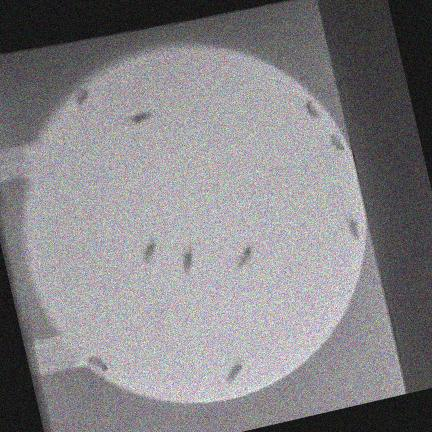fly: (236, 245, 254, 266), (142, 238, 157, 262), (227, 361, 243, 381), (88, 355, 108, 371), (128, 111, 152, 123), (182, 248, 193, 273), (348, 217, 360, 238), (306, 100, 320, 117), (331, 133, 345, 150), (76, 87, 89, 104)
